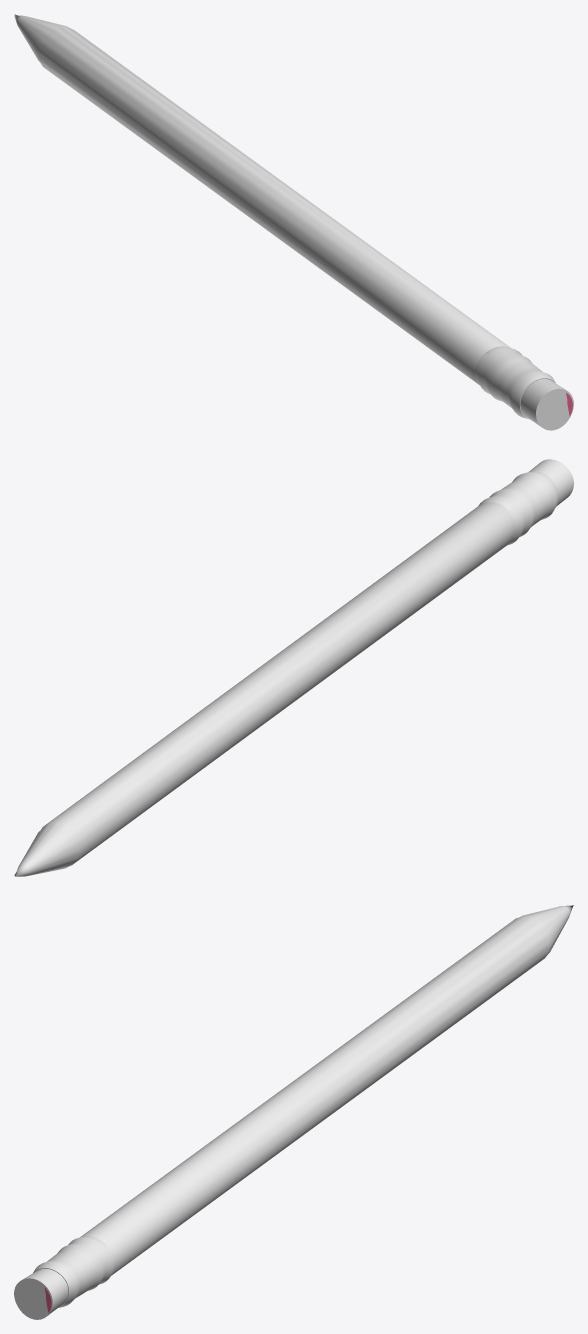
File: pencil.fbx
The picture shows the model from 3 angles, top to bottom: view 1: azimuth 30°, elevation 25°; view 2: azimuth 150°, elevation 25°; view 3: azimuth 330°, elevation 25°; orthographic projection.
Parts seen in each view (by area): view 1: pencils; view 2: pencils; view 3: pencils.
Part boxes in pixels (x1,y1,x2,y2): pencils: [14, 14, 573, 430]; pencils: [14, 459, 573, 876]; pencils: [14, 905, 573, 1319].
Bounding box in the file's own units: 0.0125 × 0.012 × 0.251.
Materials: 6 (2 with a texture image).
